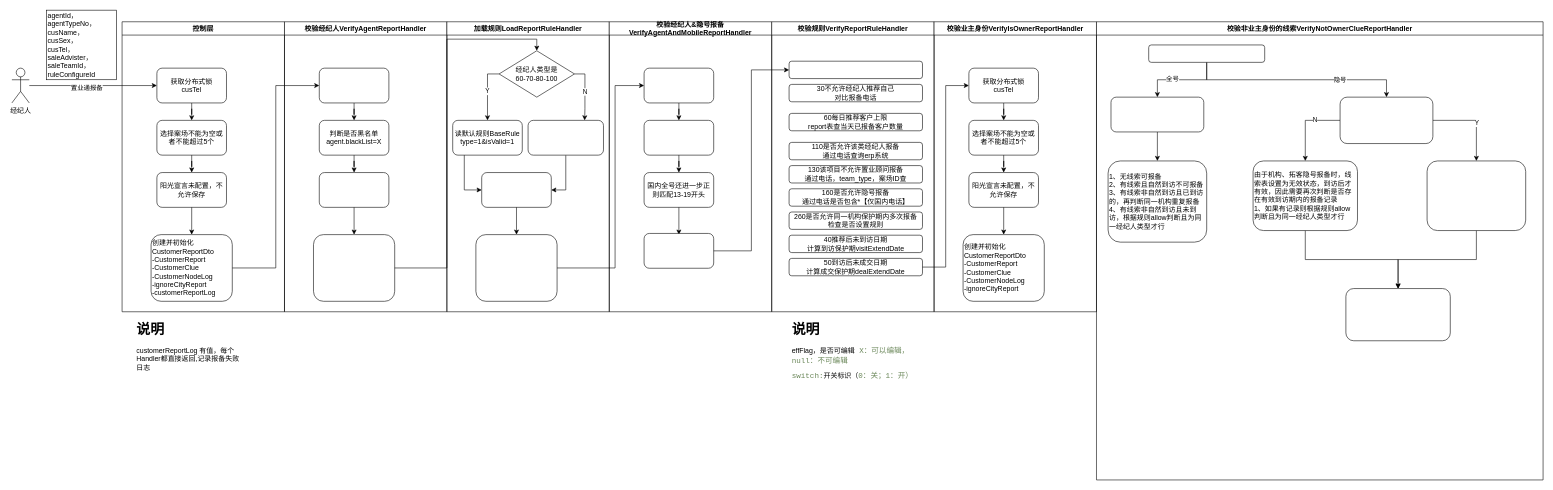
This 1553x490 diagram has some shape labels left out. The shapes that lost their labels are listed below. From the top down, each one's centre as x and y in pixels, then its label:
the point at 855,70: 10不允许推荐华发员工 通过电话查询erp系统
the point at 1206,53: 240检查是否允许重复报备 allow
the point at 354,85: 根据agentId获取Agent agent
the point at 679,85: 检查手机号码格式 *0-9，且11位
the point at 1157,114: 看本案场是否未成交的有效线索customer_clue status in ('10','20','30') is_valid = 1
the point at 1386,120: 看本案场是否未成交的有效线索customer_clue status in ('10','20','30') is_valid = 1 mobile前三后四
the point at 565,137: 读案场规则ReportRule saleTeamId&agentTypeNo
the point at 679,137: 国内手机是隐号只支持机构，拓客，线上
the point at 354,189: 设置经济人类型 agent.agentTypeNo
the point at 516,189: 如果找不到报备规则：该案场无配置规则，报备失败
the point at 1476,195: 1、 自然到访不可报备 2、 非自然到访且未到访，根据规则allow判断且为同一经纪人类型才行
the point at 354,267: 设置CustomerReportDto -agent
the point at 516,267: 设置CustomerReportDto -rulesMap Map<String, ReportRule> -checkConId
the point at 679,250: 港澳电话不检验
the point at 1397,314: 如果电话不为空且是隐号report.getCustomerMobile()，且当前经纪人是机构或拓客，需要匹配电话前3后4是不是业主，是的话不充许报备
